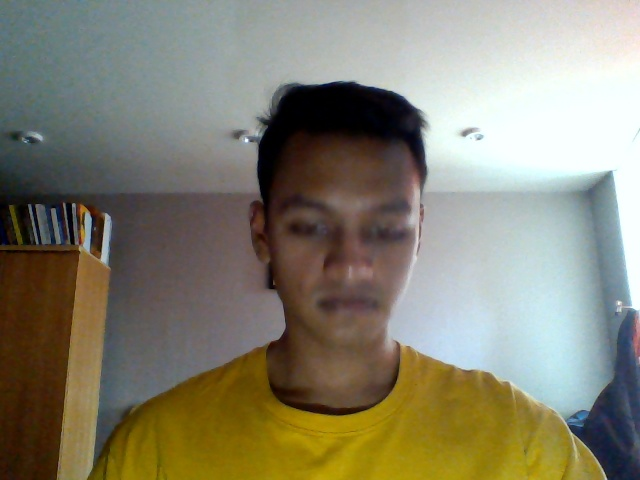no_mask: (264, 247, 438, 351)
